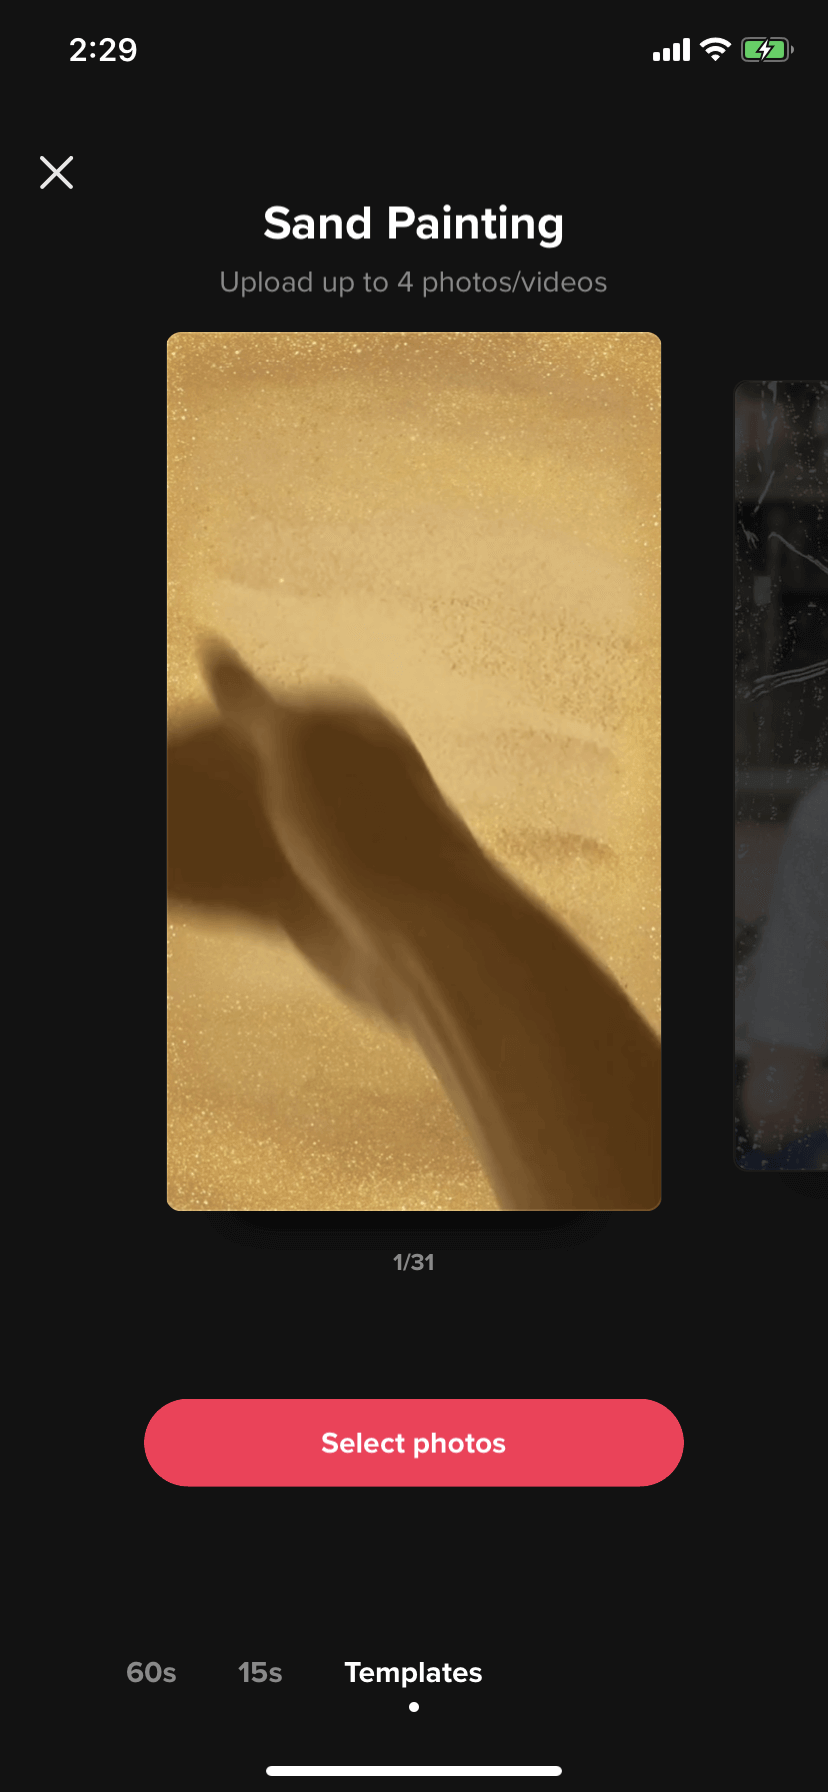Buttons: (128, 1371, 709, 1510), (19, 123, 101, 208)
